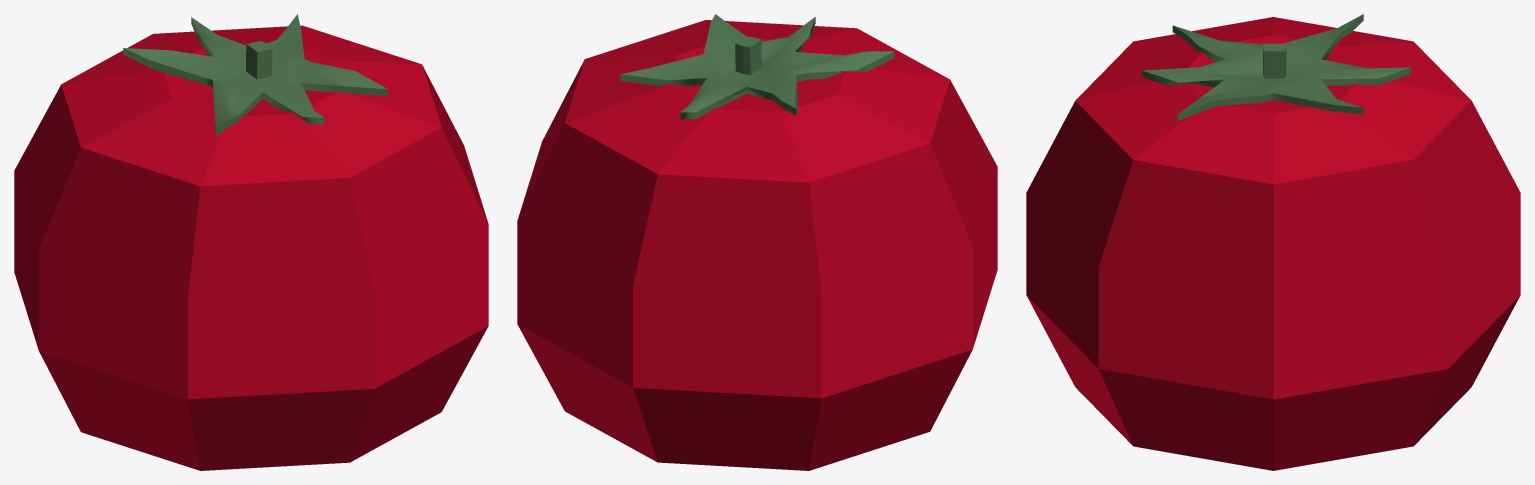
Rendered from tomato.fbx.
3 renders of one model, left to right at view 1: azimuth 30°, elevation 25°; view 2: azimuth 150°, elevation 25°; view 3: azimuth 270°, elevation 25°, orthographic.
Parts seen in each view (by area): view 1: pSphere1, pCube1; view 2: pSphere1, pCube1; view 3: pSphere1, pCube1.
Part boxes in pixels (x1,y1,x2,y2): pSphere1: (14, 25, 488, 470); pCube1: (123, 14, 387, 136); pSphere1: (517, 20, 997, 470); pCube1: (620, 14, 894, 119); pSphere1: (1026, 17, 1520, 470); pCube1: (1142, 14, 1410, 120).
Size of the model in its own units: 1.95 by 1.53 by 1.95.
